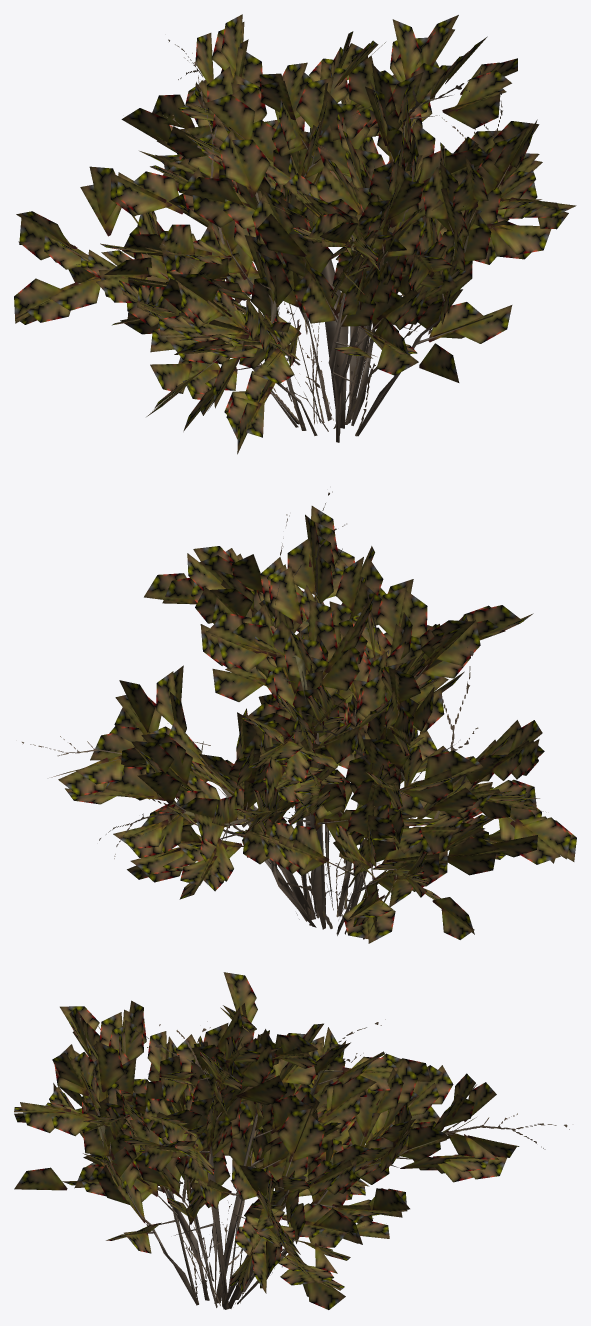
The model's file is ph_shrub_2.glb.
3 views of the same model, one above another, from view 1: azimuth 30°, elevation 25°; view 2: azimuth 150°, elevation 25°; view 3: azimuth 270°, elevation 25° (orthographic). The views are drawn at different scales.
Visible parts, largest first — view 1: ph_shrub_2_lod1; view 2: ph_shrub_2_lod1; view 3: ph_shrub_2_lod1.
Boxes of the visible parts, x1=… form: ph_shrub_2_lod1: x1=14, y1=14, x2=576, y2=454; ph_shrub_2_lod1: x1=22, y1=491, x2=576, y2=943; ph_shrub_2_lod1: x1=14, y1=972, x2=569, y2=1309.
Size of the model in its own units: 0.6966 by 0.5386 by 0.8434.
3 materials, 3 textured.
